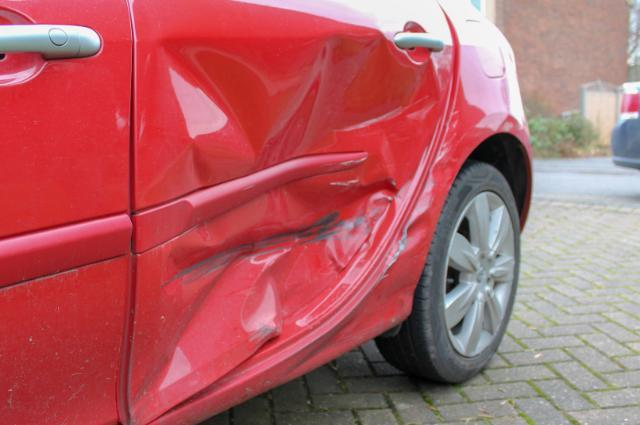Door: (130, 0, 432, 401)
